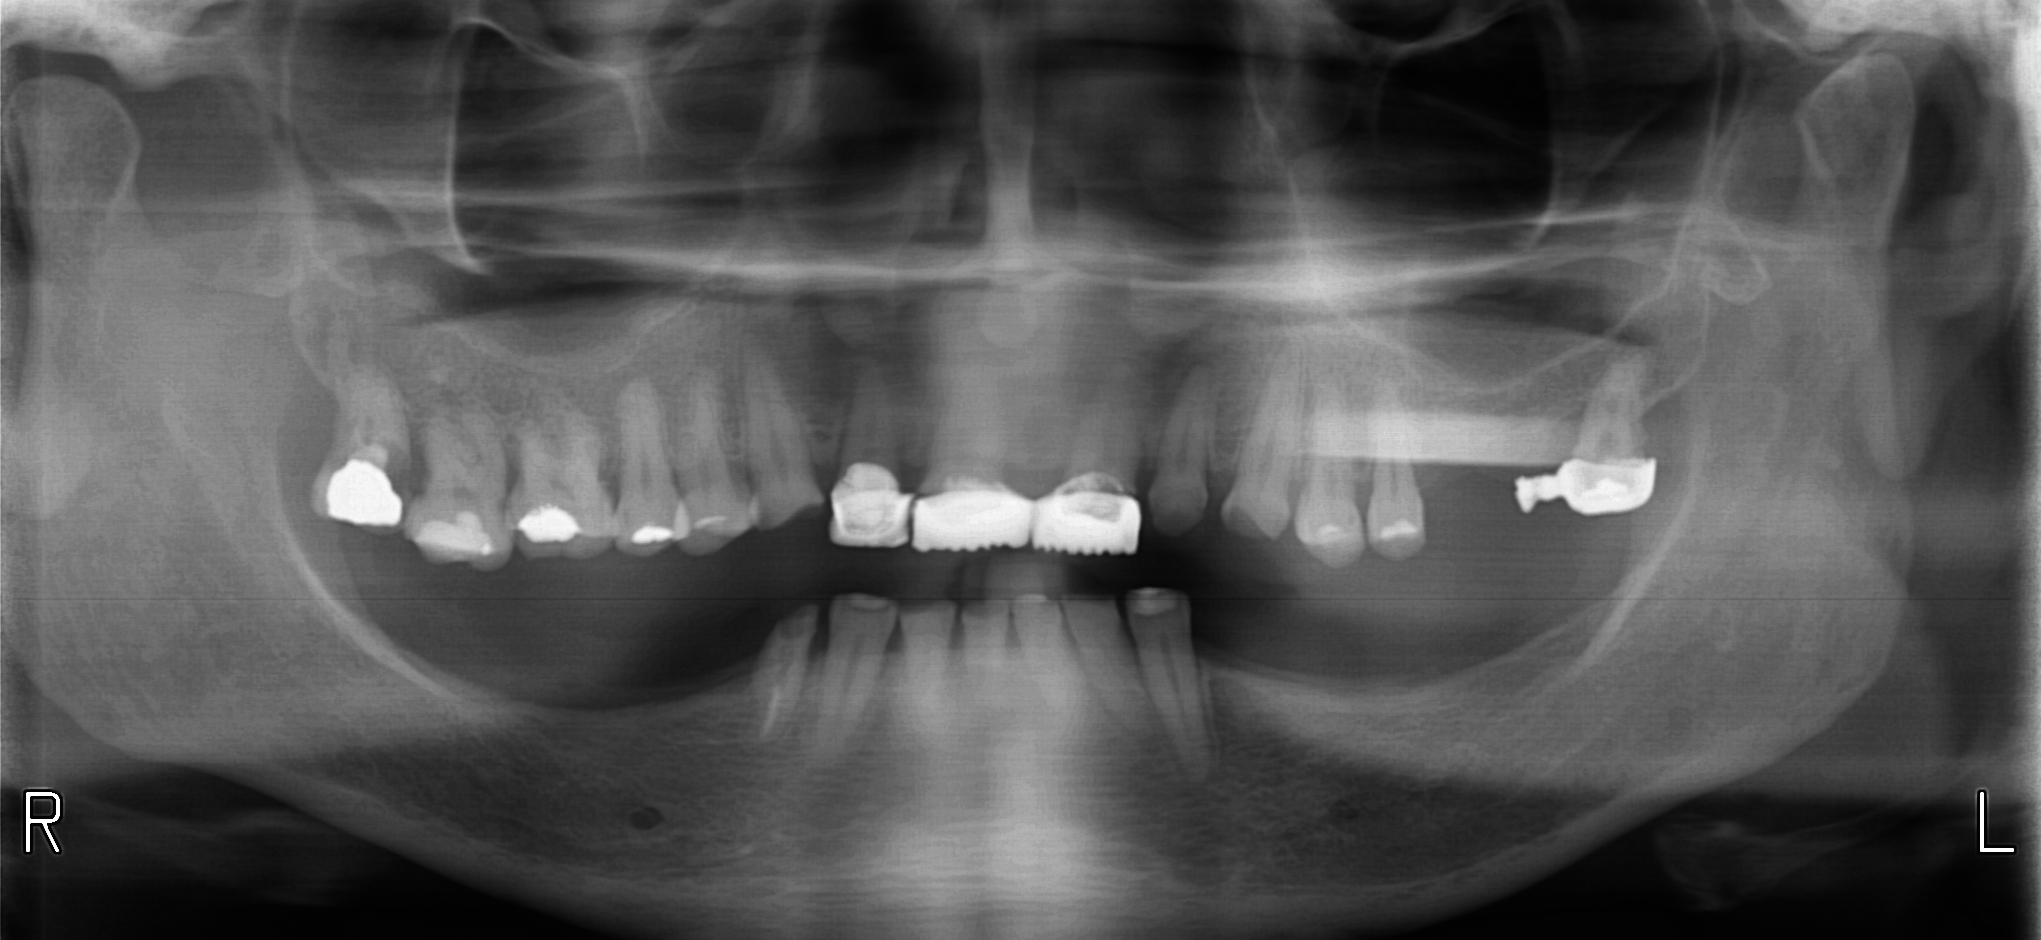cavity: (387, 452, 407, 499), (417, 454, 426, 493)
